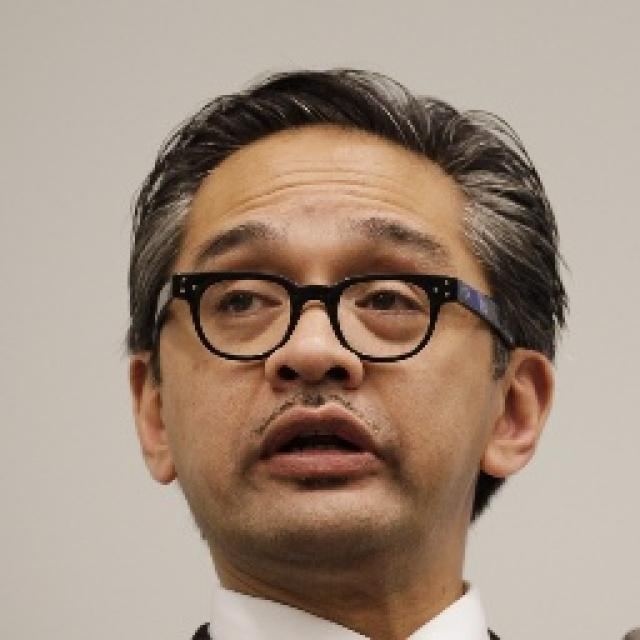earlobe: (482, 347, 557, 479), (128, 350, 178, 486)
